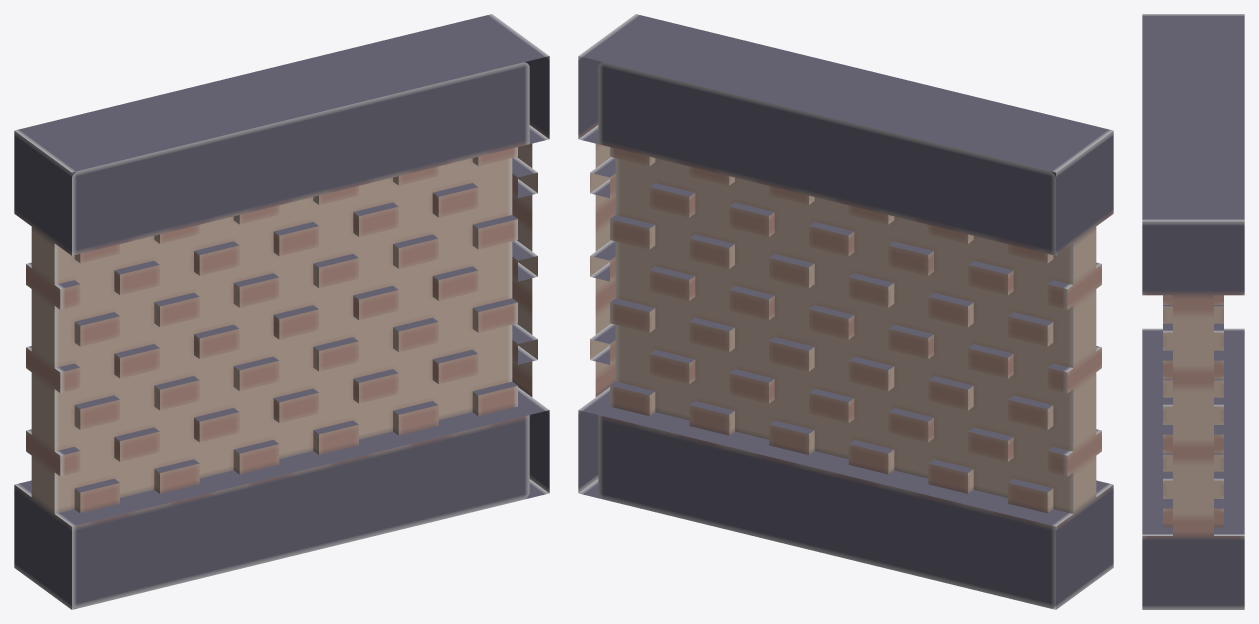
File: Bridge_path.fbx
3 renders of one model, left to right at view 1: azimuth 30°, elevation 25°; view 2: azimuth 150°, elevation 25°; view 3: azimuth 270°, elevation 25°, orthographic. The views are drawn at different scales.
Parts seen in each view (by area): view 1: generated; view 2: generated; view 3: generated.
Part boxes in pixels (box(x1,y1,x2,y2)): generated: box(14, 14, 549, 609); generated: box(578, 14, 1113, 609); generated: box(1142, 14, 1244, 609).
Bounding box in the file's own units: 240 × 210 × 50.
